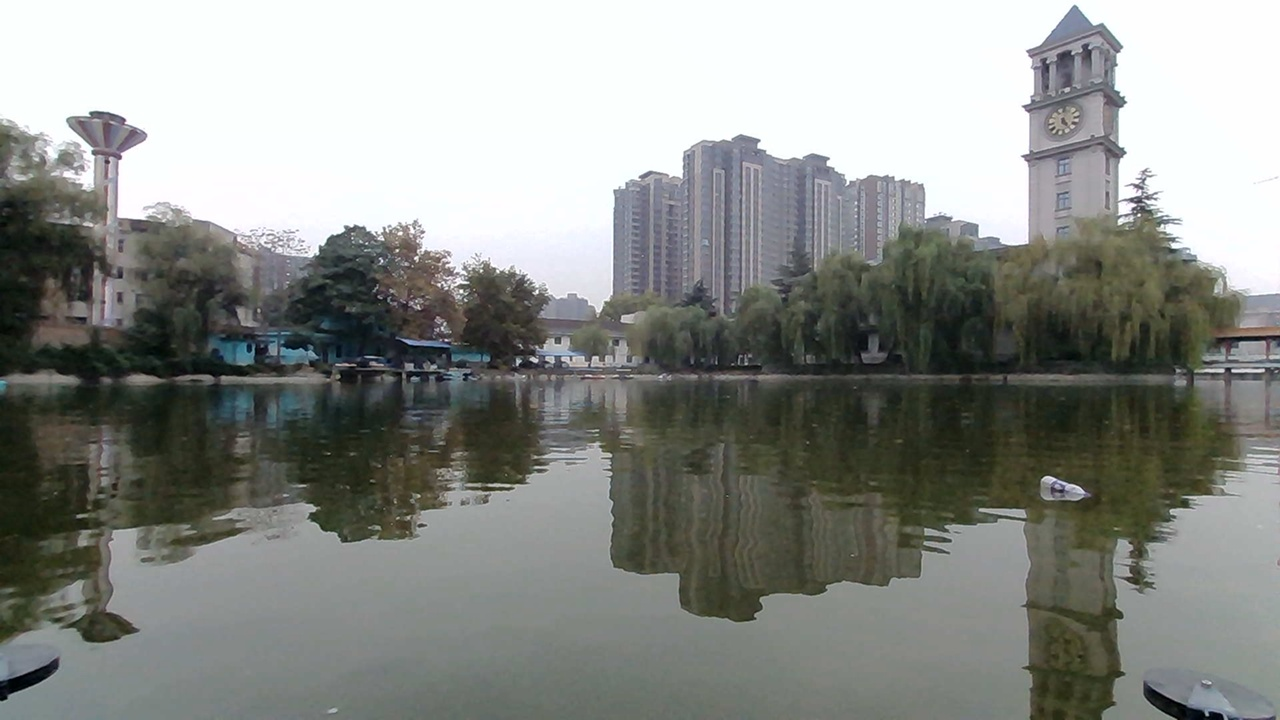bottle: (1043, 473, 1082, 503)
